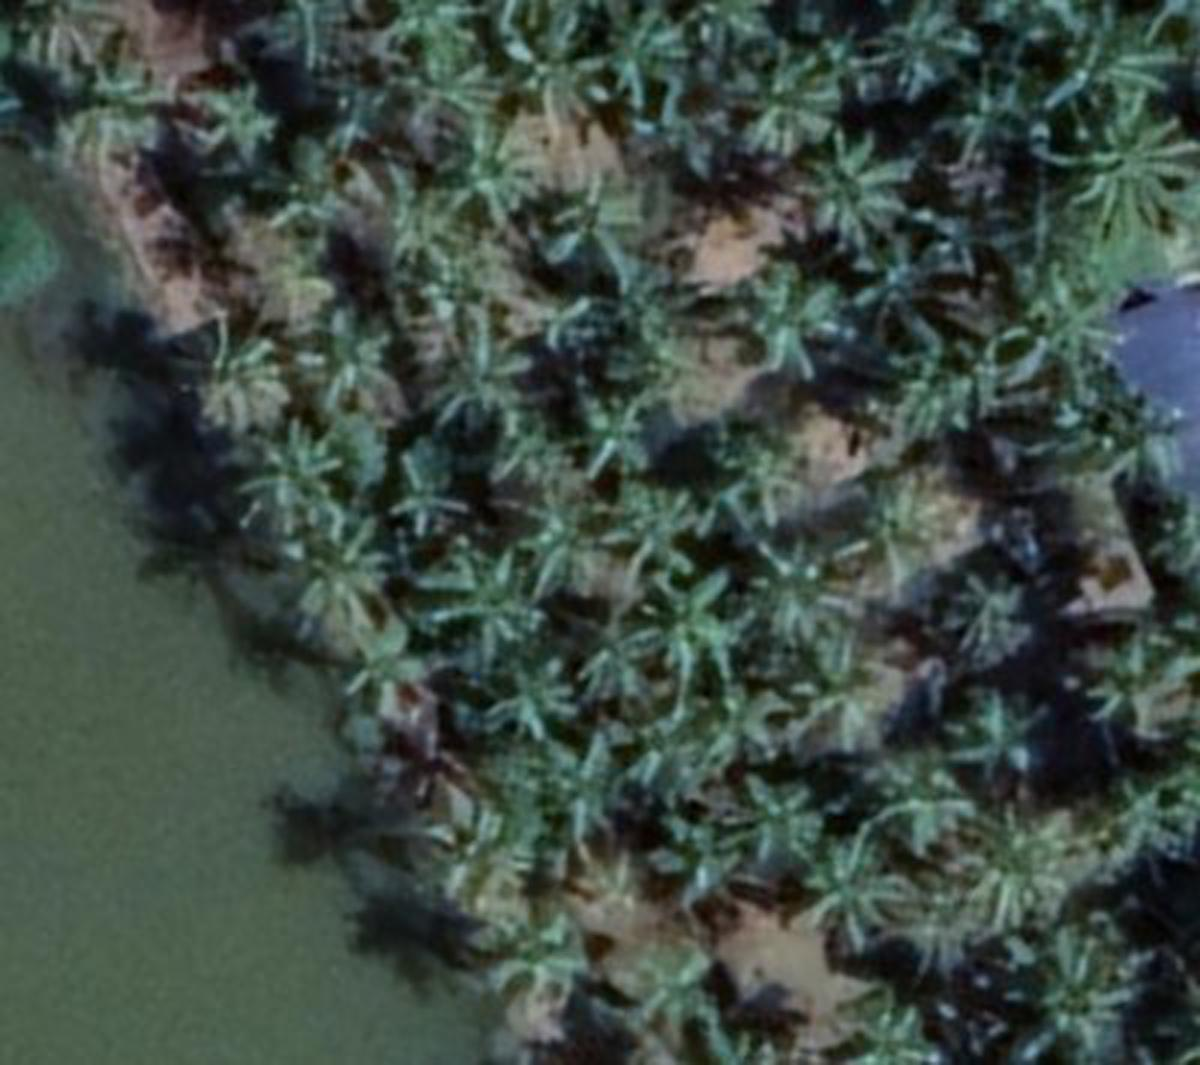coconut: (378, 786, 570, 921), (1059, 81, 1194, 237), (1005, 927, 1155, 1065), (951, 804, 1086, 945), (741, 537, 890, 657), (525, 171, 666, 291), (408, 537, 540, 660), (785, 123, 918, 243), (624, 937, 765, 1050), (279, 513, 402, 636), (423, 309, 540, 432), (632, 555, 750, 675), (498, 12, 621, 125), (735, 261, 849, 381), (710, 765, 819, 888), (288, 300, 408, 411), (798, 828, 906, 951), (549, 381, 672, 486), (1077, 633, 1185, 750), (924, 573, 1044, 675), (567, 612, 678, 720), (860, 3, 984, 99), (854, 744, 972, 843), (932, 681, 1038, 786), (228, 423, 333, 522), (480, 642, 576, 744), (381, 444, 474, 543), (176, 303, 270, 399), (837, 987, 948, 1065)
